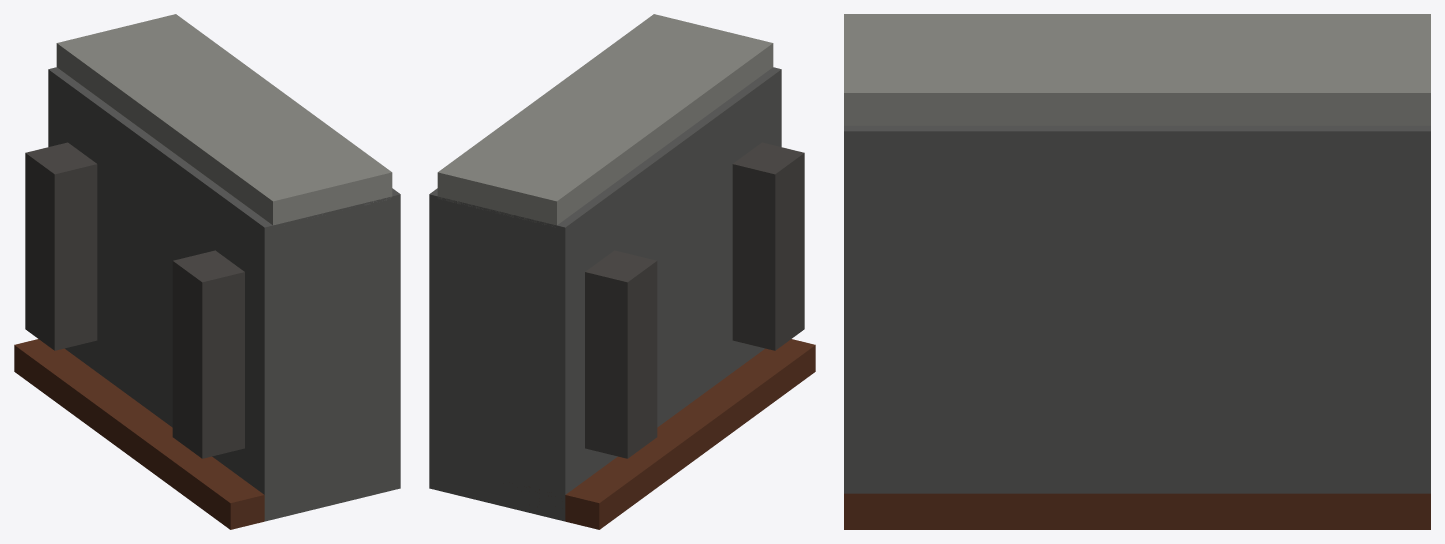
File: bumper_front.glb
3 renders of one model, left to right at view 1: azimuth 30°, elevation 25°; view 2: azimuth 150°, elevation 25°; view 3: azimuth 270°, elevation 25°, orthographic. The views are drawn at different scales.
Parts seen in each view (by area): view 1: bumper_front; view 2: bumper_front; view 3: bumper_front.
Boxes of the visible parts, box(x1,y1,x2,y2) form: bumper_front: box(14, 14, 400, 529); bumper_front: box(429, 14, 815, 529); bumper_front: box(844, 14, 1430, 529).
Bounding box in the file's own units: 0.21 × 0.357 × 0.44.
